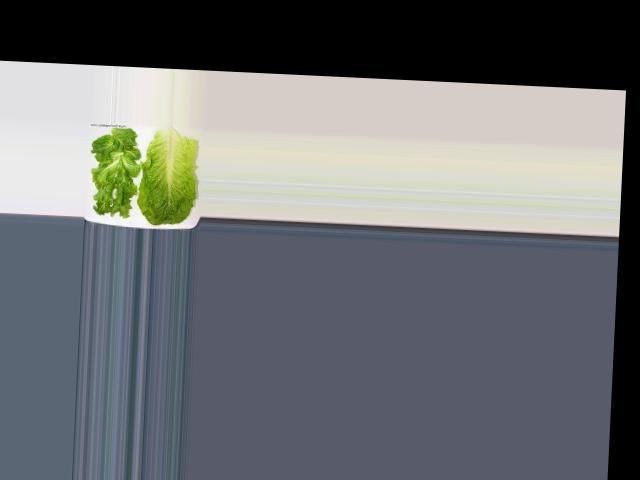lettuce: (82, 129, 139, 218)
